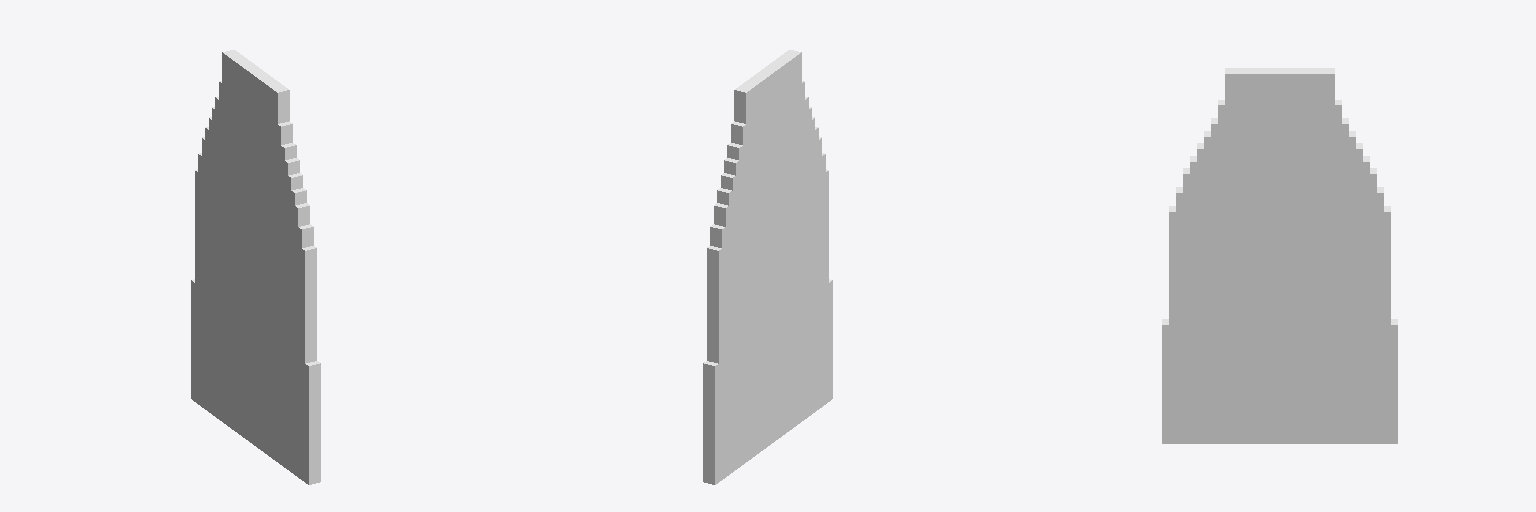
Rendered from foggate.obj.
The picture shows the model from 3 angles: view 1: azimuth 30°, elevation 25°; view 2: azimuth 150°, elevation 25°; view 3: azimuth 270°, elevation 25°; orthographic projection.
Bounding box in the file's own units: 2 × 59 × 34.